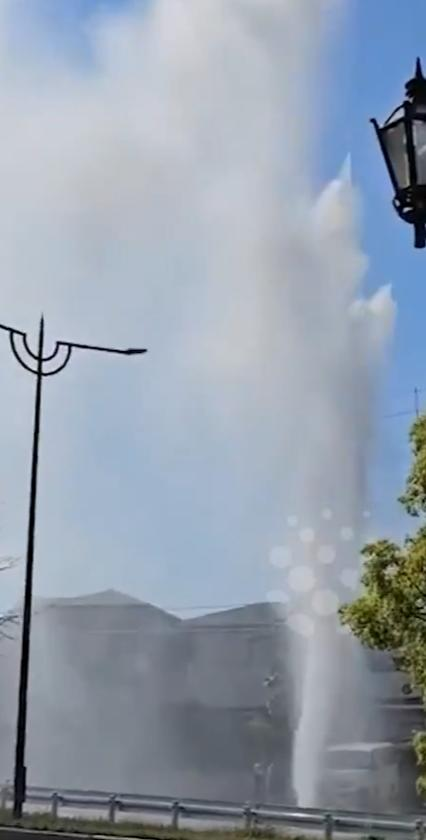pipe burst: (0, 1, 404, 816)
